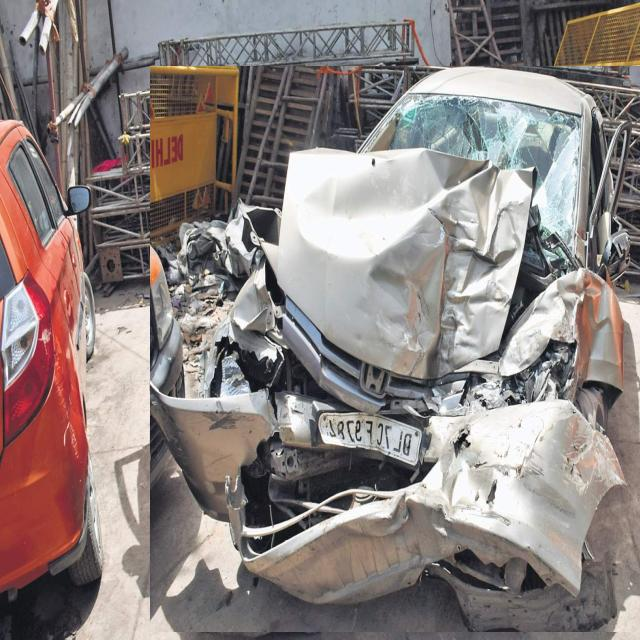accident: (150, 66, 640, 632)
car: (0, 121, 102, 591)
